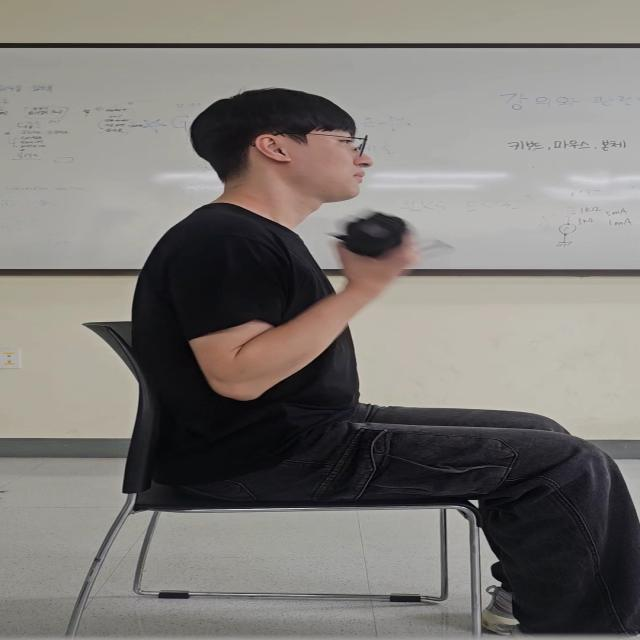curl: (178, 212, 350, 403)
